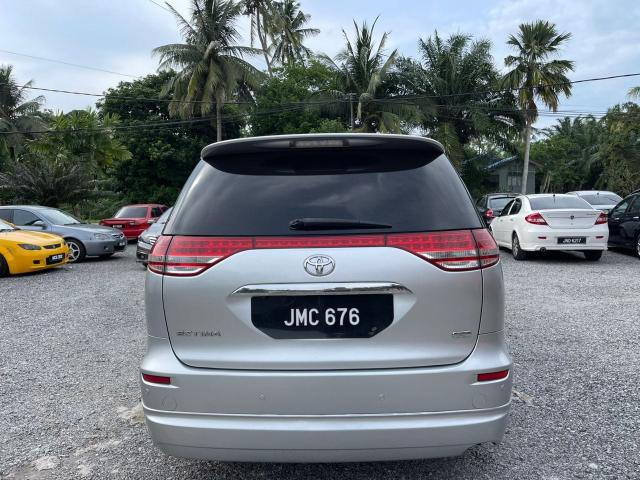License_Plate: (268, 301, 379, 335), (558, 235, 591, 246)
car: (130, 127, 525, 464)
